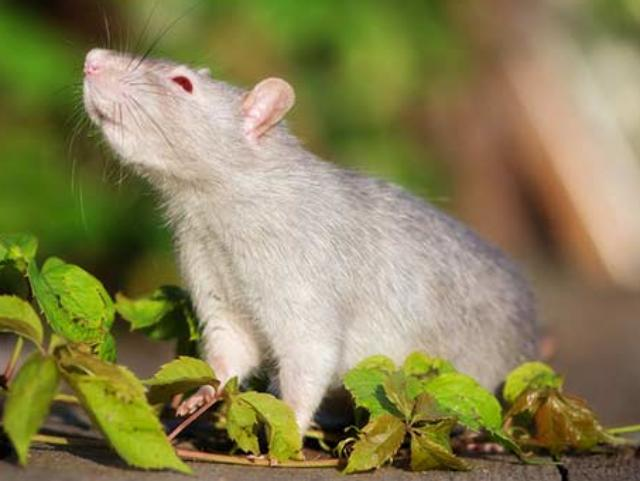rat: (70, 1, 398, 252)
